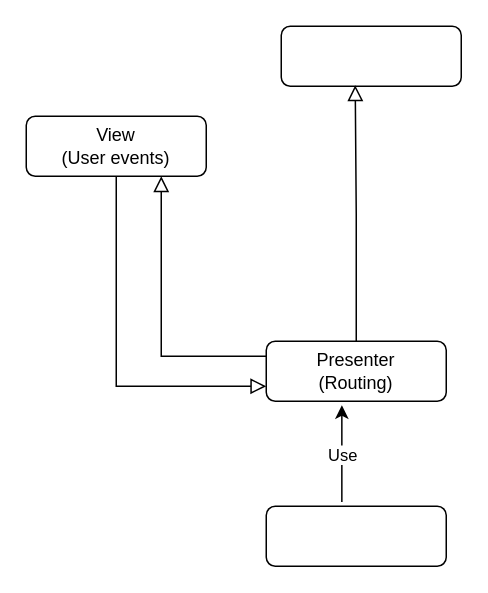
Some shapes in this 488 by 593 pixel diagram are drawn without their labels. Each missing label, with the centre of its shape:
Client: pixel 355 535
Model (Networking): pixel 370 55
